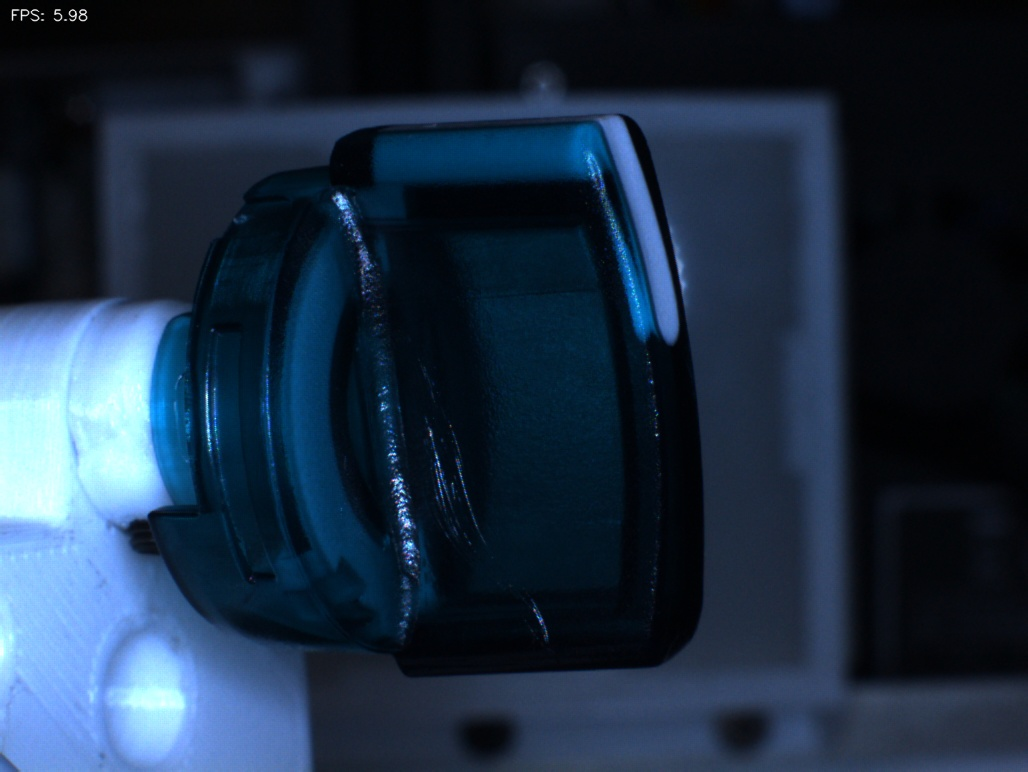Givrage: (409, 359, 569, 657)
